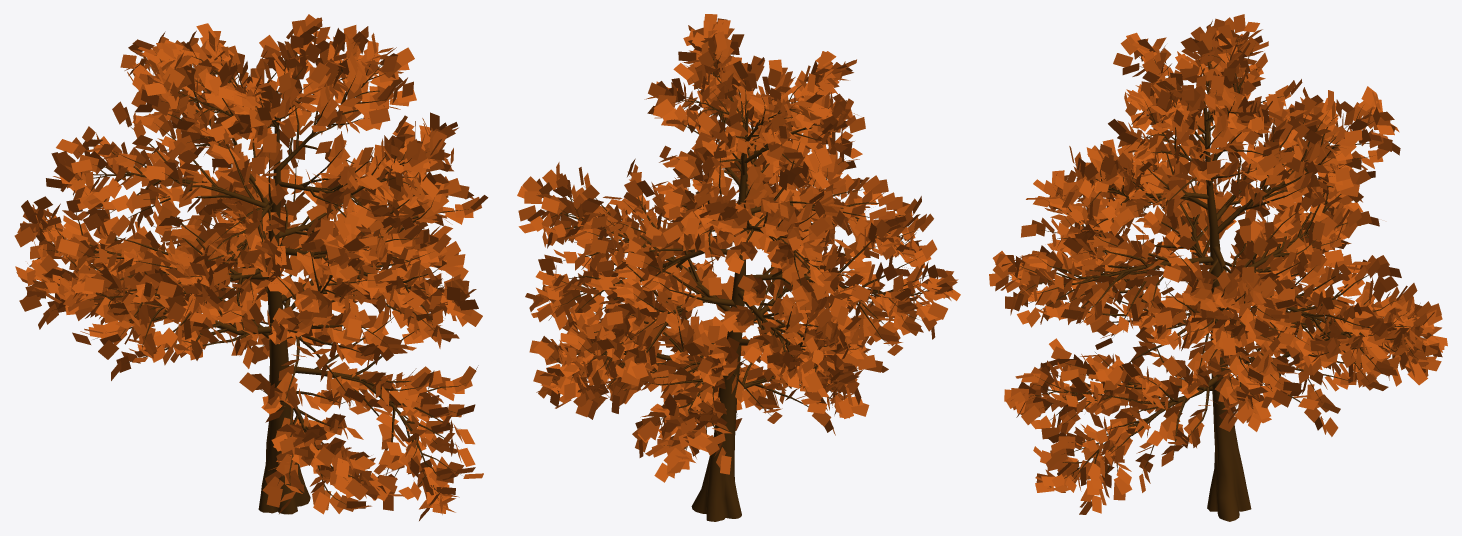
Rendered from oaktree.FBX.
3 renders of one model, left to right at view 1: azimuth 30°, elevation 25°; view 2: azimuth 150°, elevation 25°; view 3: azimuth 270°, elevation 25°, orthographic. The views are drawn at different scales.
Visible parts, largest first — view 1: Foliage001; view 2: Foliage001; view 3: Foliage001.
Part boxes in pixels (x1,y1,x2,y2): Foliage001: (14,14,488,520); Foliage001: (517,14,960,521); Foliage001: (989,14,1447,521).
Size of the model in its own units: 517 by 562 by 517.
